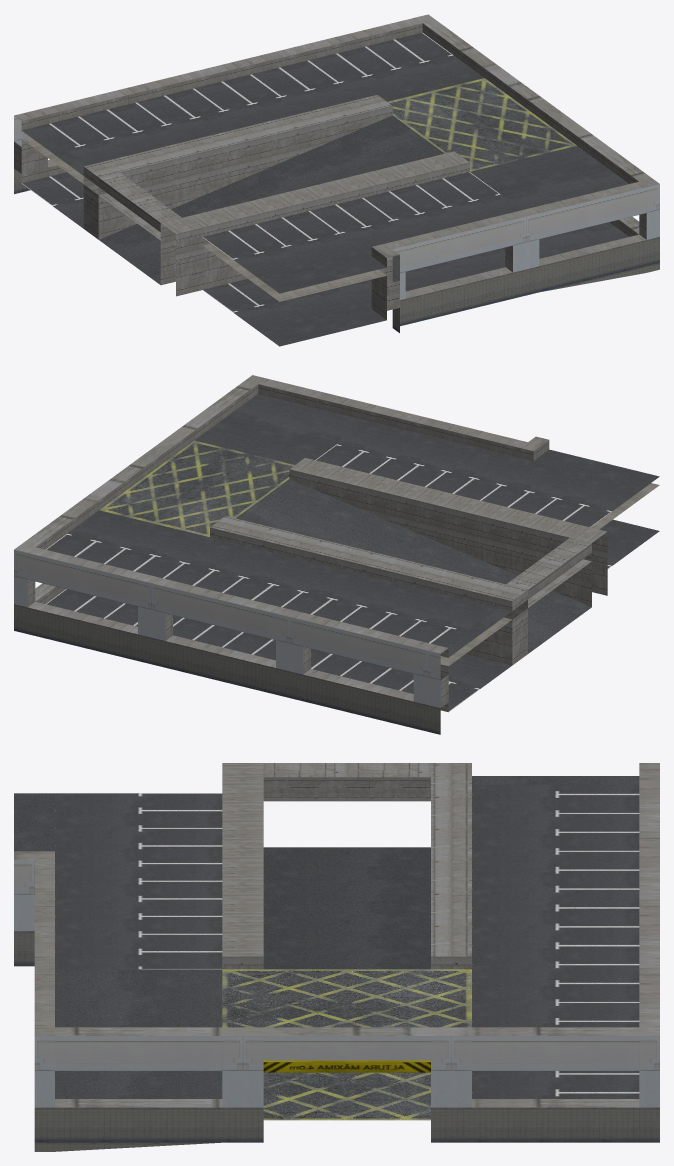
The model's file is venetiancpark03.obj.
3 renders of one model, top to bottom at view 1: azimuth 30°, elevation 25°; view 2: azimuth 150°, elevation 25°; view 3: azimuth 270°, elevation 25°, orthographic. The views are drawn at different scales.
Parts seen in each view (by area): view 1: venetiancpark03; view 2: venetiancpark03; view 3: venetiancpark03.
Part boxes in pixels (left/top/right/bottom): venetiancpark03: left=14, top=14, right=659, bottom=346; venetiancpark03: left=14, top=375, right=659, bottom=734; venetiancpark03: left=14, top=763, right=659, bottom=1151.
Size of the model in its own units: 51.01 by 10.03 by 50.72.
9 materials, 9 textured.
